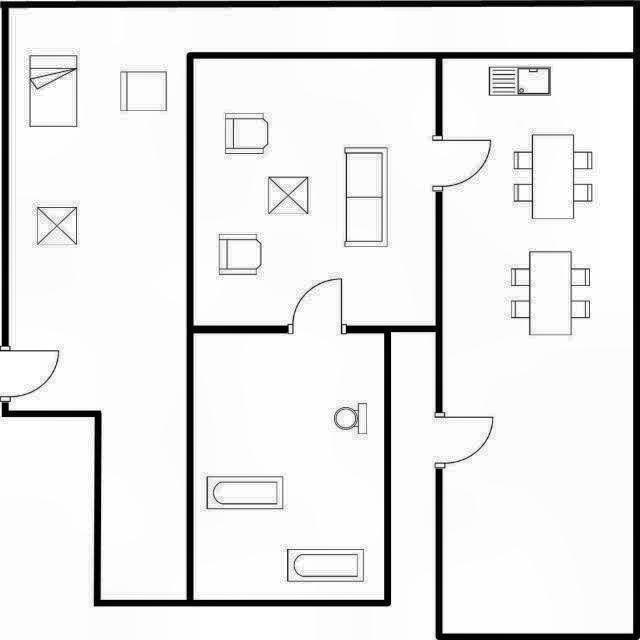room: (8, 7, 633, 599), (443, 59, 631, 633), (194, 59, 435, 325), (193, 333, 383, 599)
